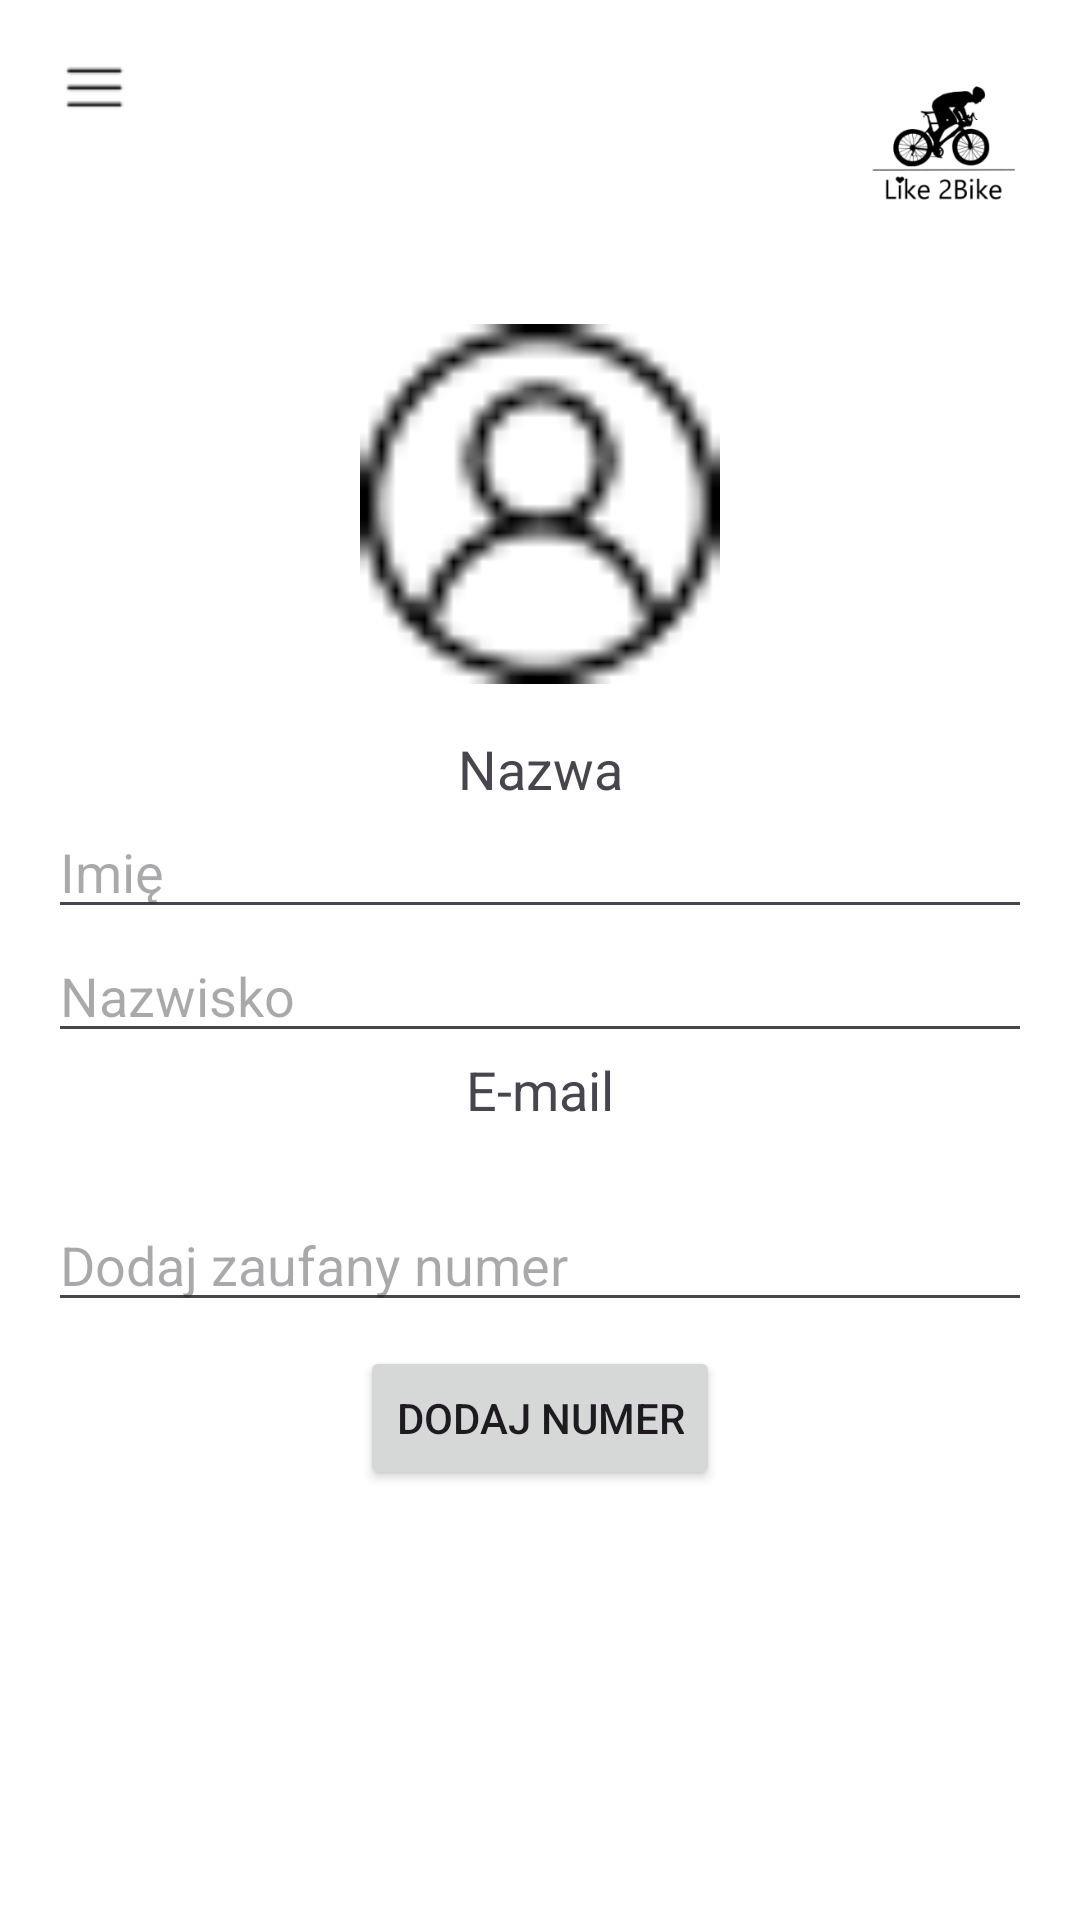

Icon bounding boxes for this 1080*1920 phone screenshot, format [left=x1, top=y1, right=x2, bottom=y2]:
Menu: [left=66, top=67, right=123, bottom=107]
User icon: [left=360, top=324, right=720, bottom=684]
